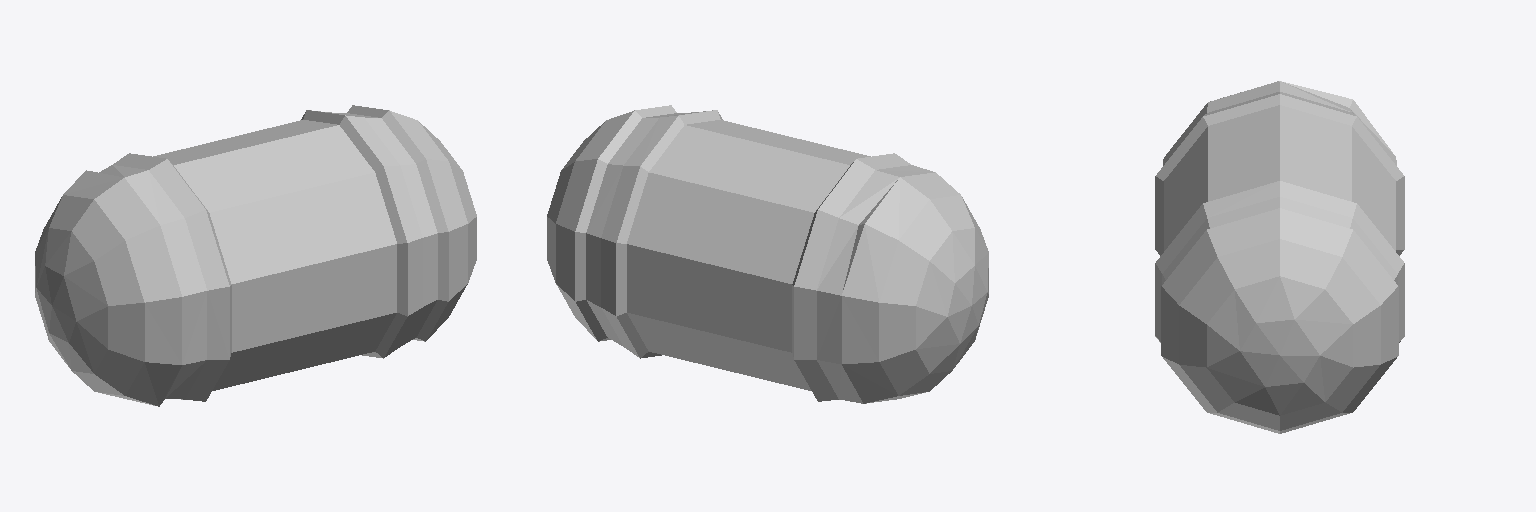
Rendered from energy_tank.obj.
3 views of the same model, side by side, from view 1: azimuth 30°, elevation 25°; view 2: azimuth 150°, elevation 25°; view 3: azimuth 270°, elevation 25° (orthographic).
Visible parts, largest first — view 1: energy_tank; view 2: energy_tank; view 3: energy_tank.
Part boxes in pixels (x1,y1,x2,y2): energy_tank: (35, 105, 476, 406); energy_tank: (547, 105, 988, 403); energy_tank: (1155, 81, 1404, 433).
Bounding box in the file's own units: 0.8916 × 0.4964 × 0.4722.